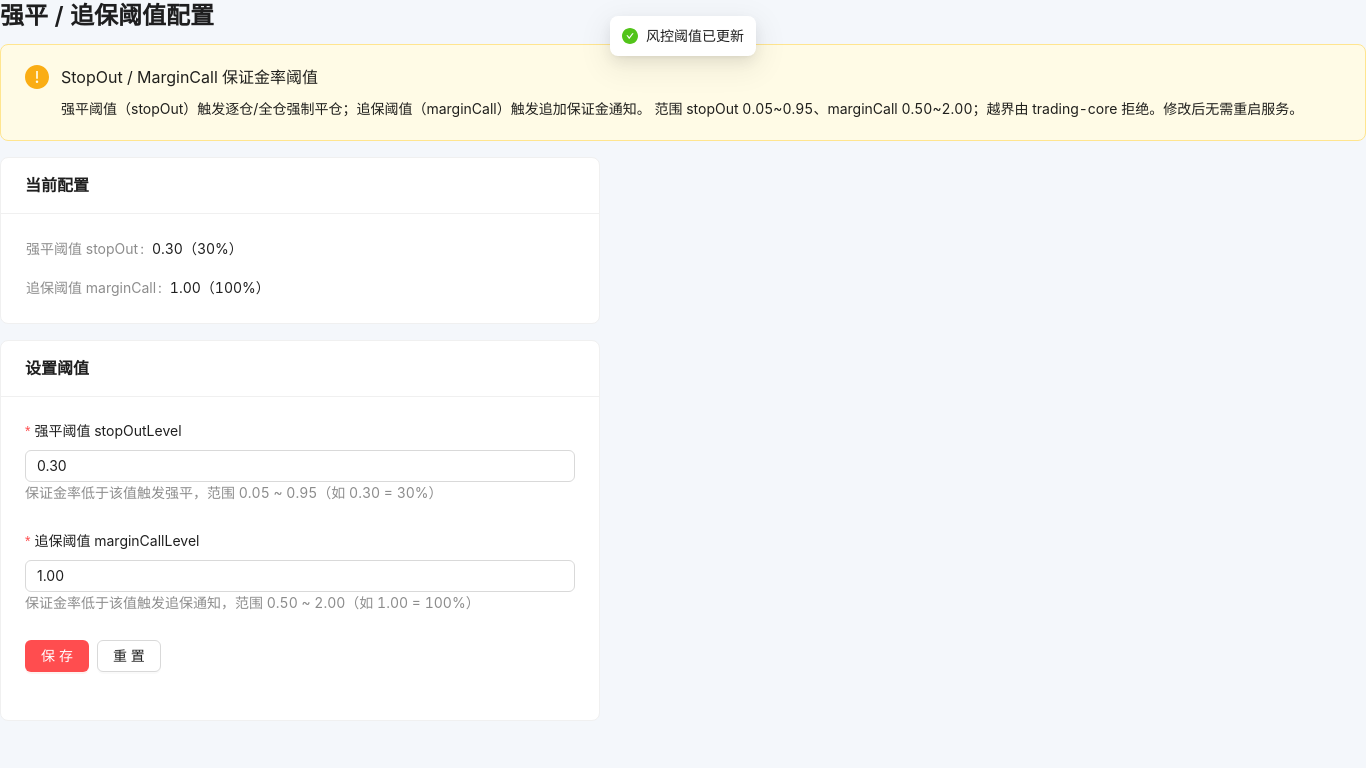
Test: RiskThresholdConfigPage › acknowledge 未勾选时确认更新按钮禁用；reason 留空提交报校验、不发请求
Expected: the text "0.30（30%）" is shown, x1=152 y1=240 x2=243 y2=257
Click the button "保 存". click: x=57, y=656
box: x1=25 y1=640 x2=89 y2=672
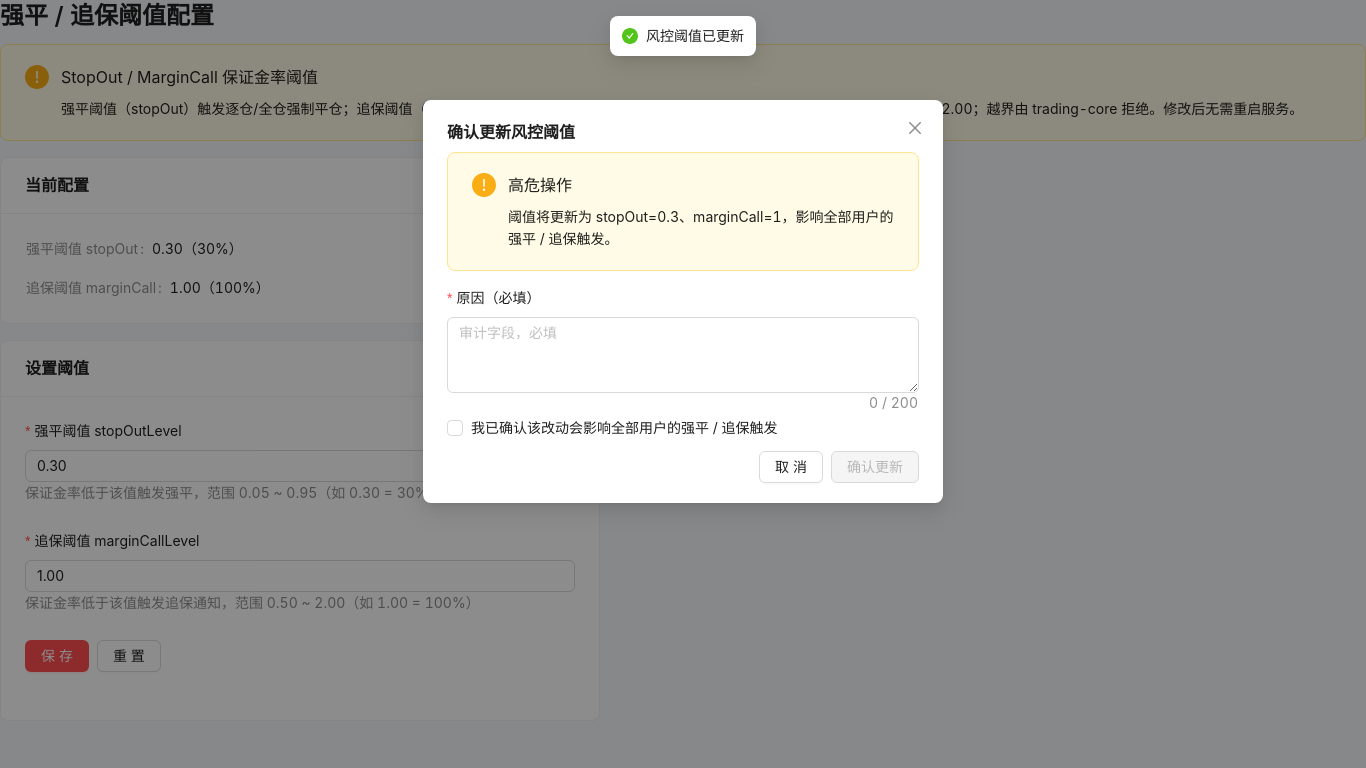
Result: the button "确认更新" is disabled at x1=831 y1=451 x2=919 y2=483
// 勾选 acknowledge 后启用，但 reason 留空 → 校验拦截、不发请求
Click the text "我已确认该改动会影响全部用户的强平 / 追保触发". click: x=624, y=428
box: x1=463 y1=417 x2=786 y2=439
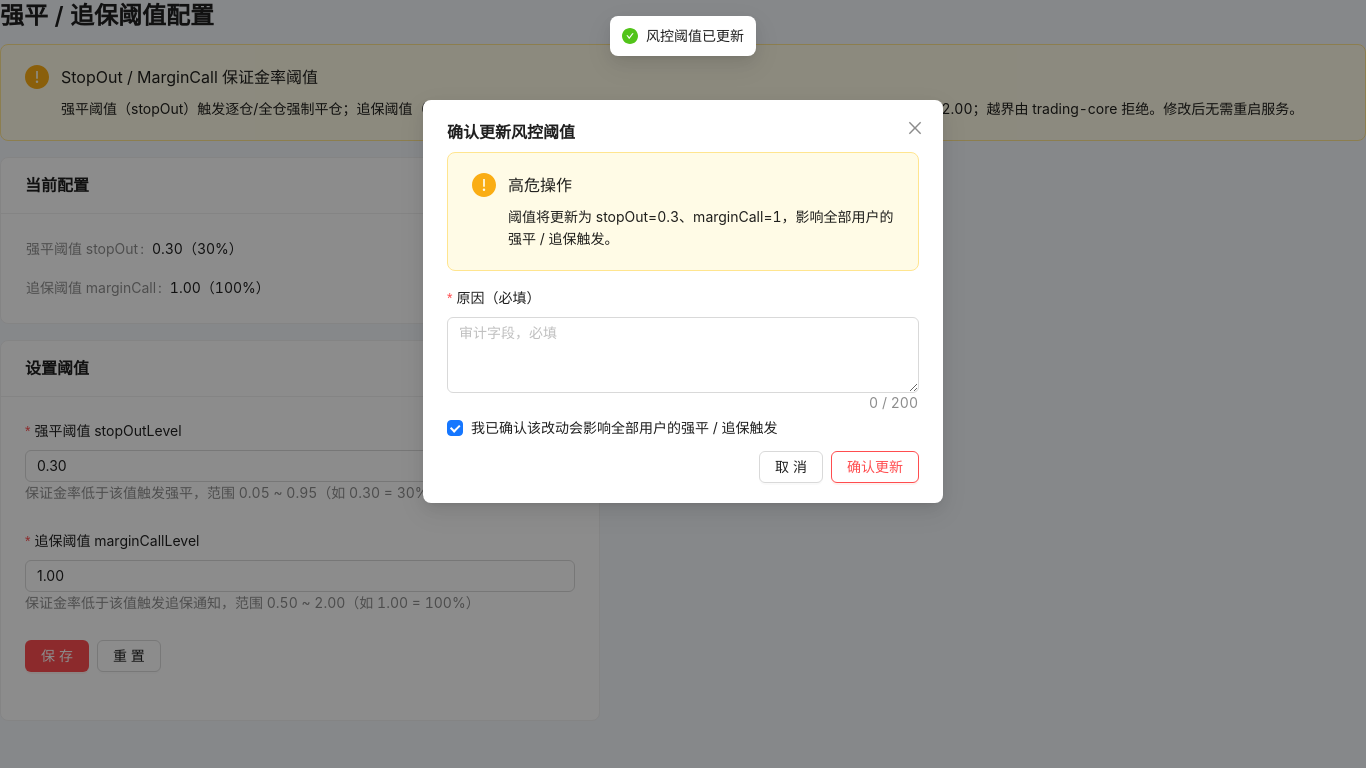
Result: the button "确认更新" is enabled
Click the button "确认更新". click: x=875, y=467
box: x1=831 y1=451 x2=919 y2=483
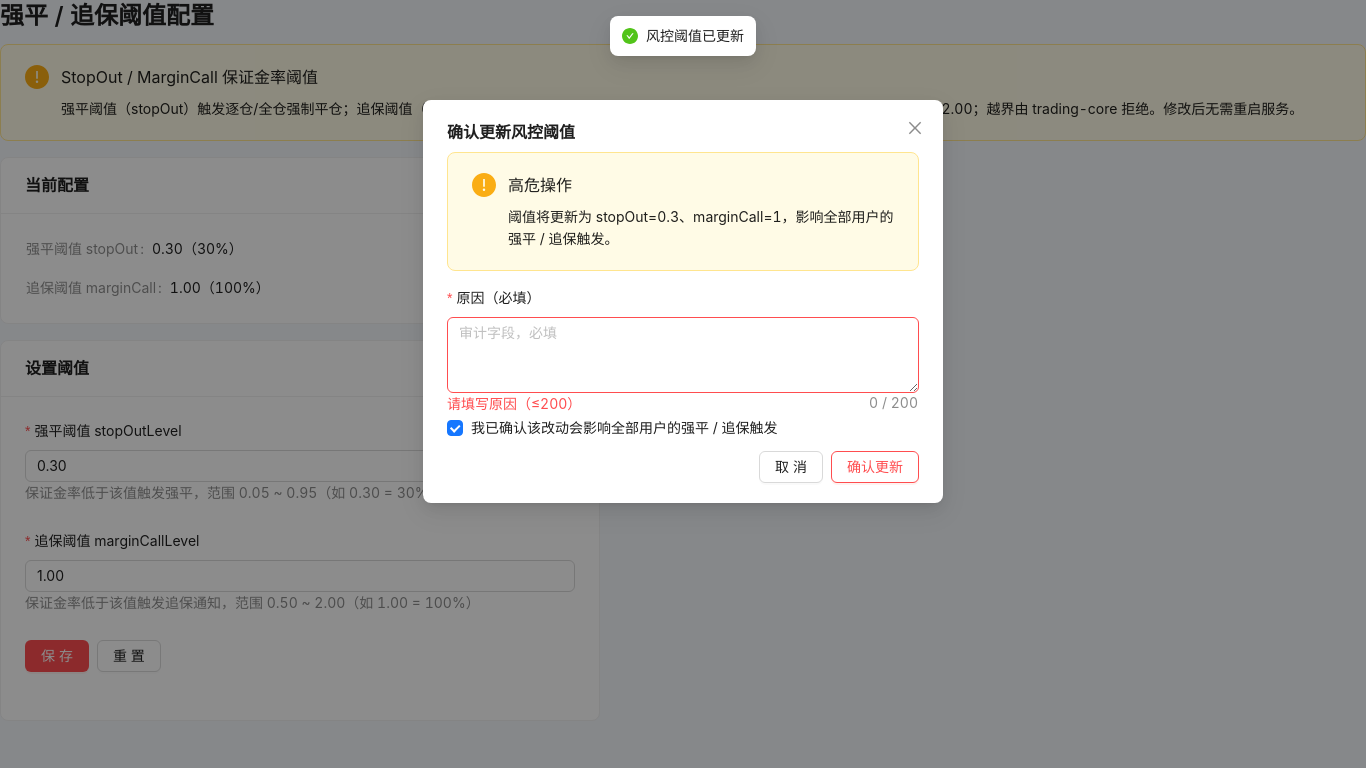
Result: the text "请填写原因（≤200）" is shown at x1=447 y1=395 x2=581 y2=412
